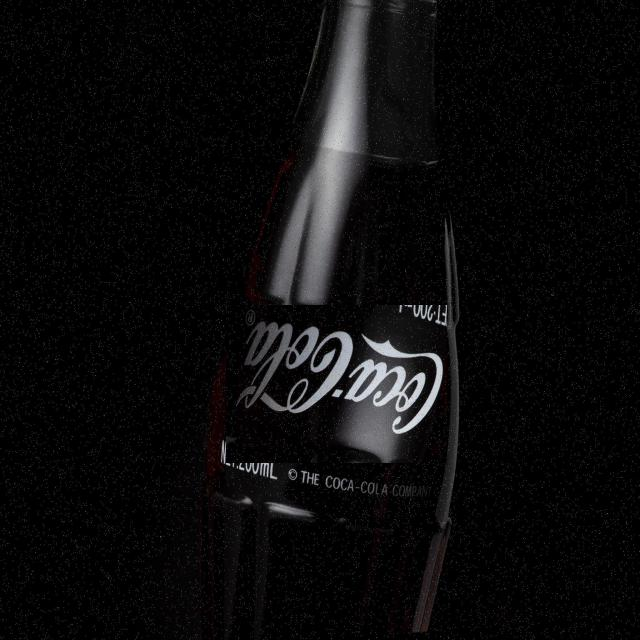coca-cola: (226, 305, 447, 463)
